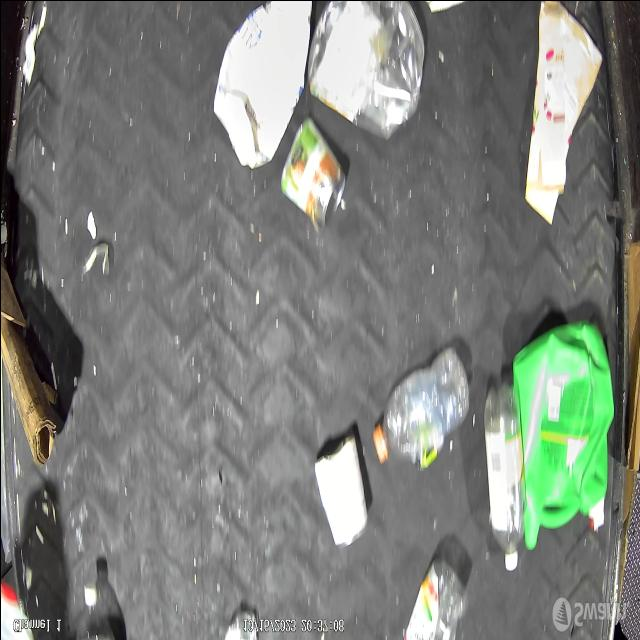can: (312, 0, 421, 142), (276, 116, 347, 230), (312, 424, 369, 558)
milk_jug: (212, 0, 314, 176)
non_white_jug: (508, 316, 612, 562)
plastic_bottle: (372, 338, 470, 478), (479, 376, 531, 576)
